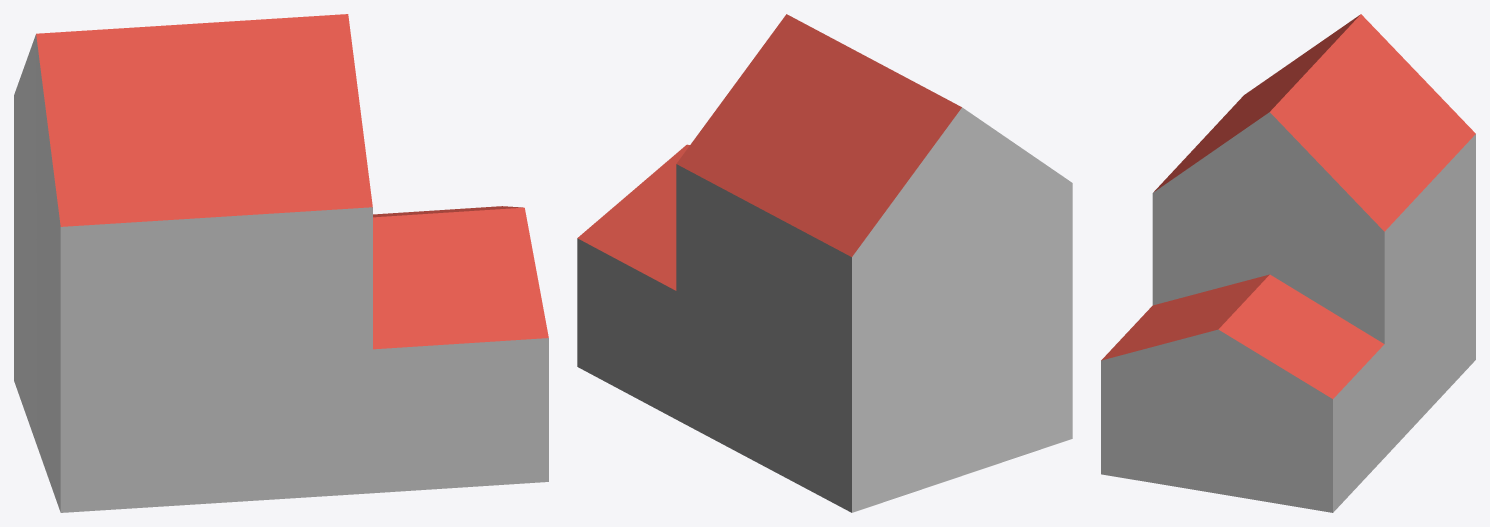
File: house1.fbx
3 views of the same model, side by side, from view 1: azimuth 30°, elevation 25°; view 2: azimuth 150°, elevation 25°; view 3: azimuth 270°, elevation 25° (orthographic). The views are drawn at different scales.
Visible parts, largest first — view 1: Cube.004; view 2: Cube.004; view 3: Cube.004.
Part boxes in pixels (box(x1,y1,x2,y2)): Cube.004: box(14, 14, 548, 512); Cube.004: box(577, 14, 1072, 512); Cube.004: box(1101, 14, 1475, 512).
Bounding box in the file's own units: 1031 × 817 × 851.
